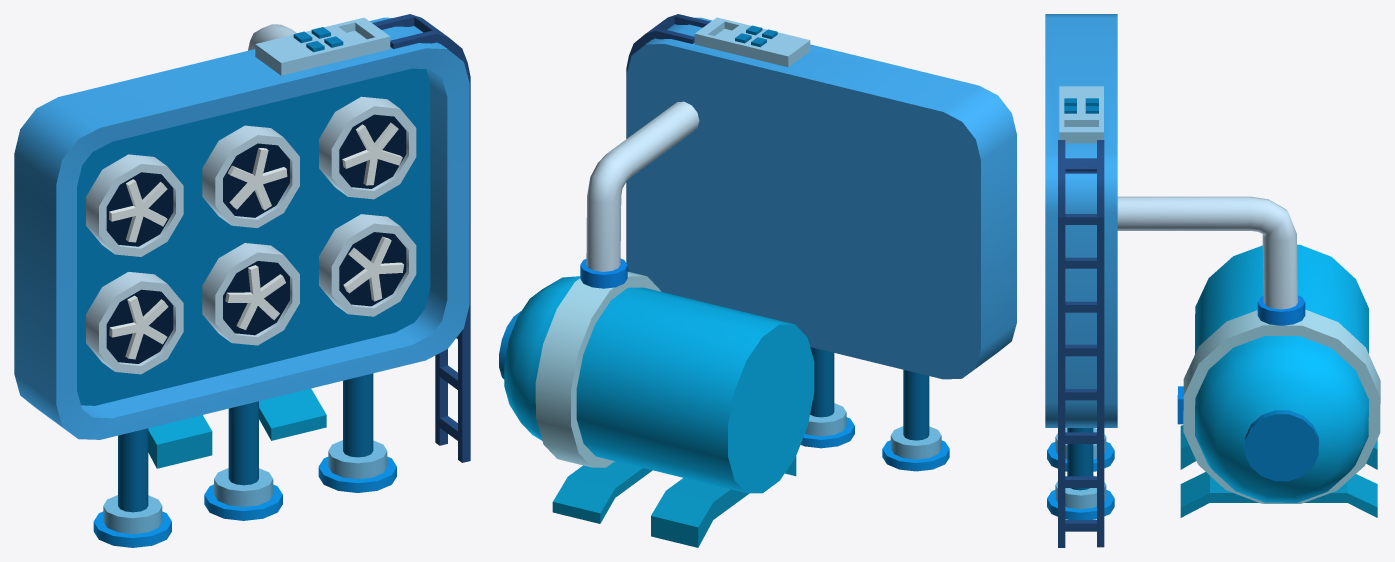
Rendered from 2026-1-9-CarbonCapture-v047.fbx.
3 views of the same model, side by side, from view 1: azimuth 30°, elevation 25°; view 2: azimuth 150°, elevation 25°; view 3: azimuth 270°, elevation 25° (orthographic). The views are drawn at different scales.
Parts seen in each view (by area): view 1: Cube.003, Cube.004, Cylinder.010, Cylinder.007, Cylinder.009, Cylinder.012, Cylinder.011, Cylinder.008, Cube.001, Cube, Cylinder.022, Cylinder.020 (+20 smaller); view 2: Cube.003, Cylinder, Cylinder.002, Cylinder.001, Cube.001, Cube, Cylinder.006, Cylinder.014, Cube.004, Cylinder.015, Cylinder.005, Cylinder.024 (+2 smaller); view 3: Cylinder, Cube.003, Cube.004, Cylinder.001, Cylinder.002, Cube, Cylinder.003, Cylinder.024, Cylinder.004, Cylinder.017, Cube.001, Cylinder.013.
Part boxes in pixels (box(x1,y1,x2,y2)): Cube.003: box(14, 17, 469, 439); Cube.004: box(372, 14, 470, 462); Cylinder.010: box(319, 214, 416, 316); Cylinder.007: box(86, 154, 183, 256); Cylinder.009: box(319, 96, 416, 199); Cylinder.012: box(86, 272, 183, 374); Cylinder.011: box(202, 243, 299, 345); Cylinder.008: box(202, 125, 299, 228); Cube.001: box(148, 415, 212, 468); Cube: box(259, 388, 326, 440); Cylinder.022: box(106, 289, 173, 363); Cylinder.020: box(339, 232, 406, 306); Cube.003: box(626, 17, 1016, 379); Cylinder: box(499, 276, 814, 493); Cylinder.002: box(535, 271, 661, 467); Cylinder.001: box(586, 101, 699, 271); Cube.001: box(651, 456, 796, 547); Cube: box(552, 461, 652, 523); Cylinder.006: box(903, 370, 929, 440); Cylinder.014: box(810, 347, 834, 417); Cube.004: box(626, 14, 710, 271); Cylinder.015: box(890, 426, 941, 459); Cylinder.005: box(882, 440, 949, 471); Cylinder.024: box(580, 258, 627, 288); Cylinder: box(1195, 244, 1368, 502); Cube.003: box(1045, 14, 1117, 427); Cube.004: box(1058, 140, 1104, 547); Cylinder.001: box(1117, 196, 1298, 309); Cylinder.002: box(1177, 309, 1380, 503); Cube: box(1180, 472, 1377, 517); Cylinder.003: box(1067, 428, 1093, 490); Cylinder.024: box(1257, 295, 1305, 325); Cylinder.004: box(1047, 490, 1114, 519); Cylinder.017: box(1055, 475, 1106, 509); Cube.001: box(1180, 425, 1377, 469); Cylinder.013: box(1047, 442, 1114, 471).
Bounding box in the file's own units: 349 × 335 × 264.
